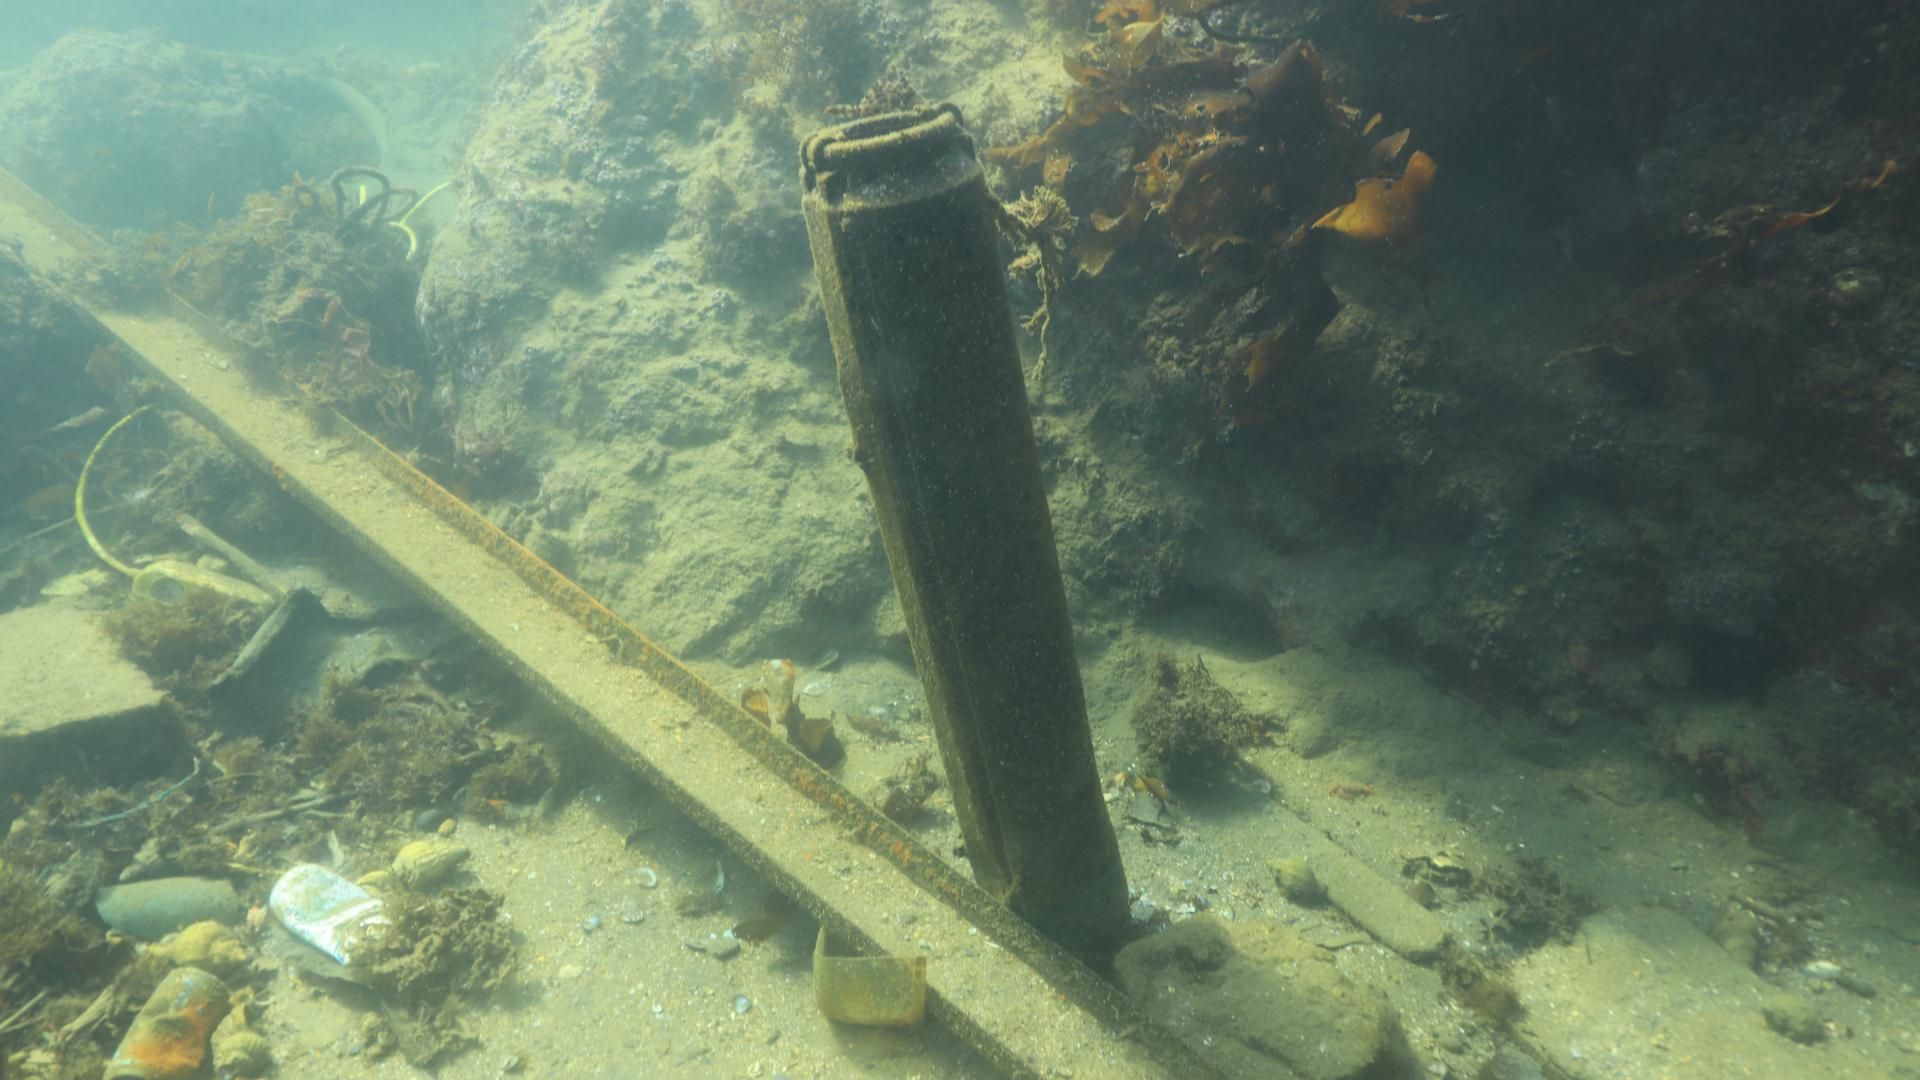eel fish trap: (796, 104, 1135, 968)
